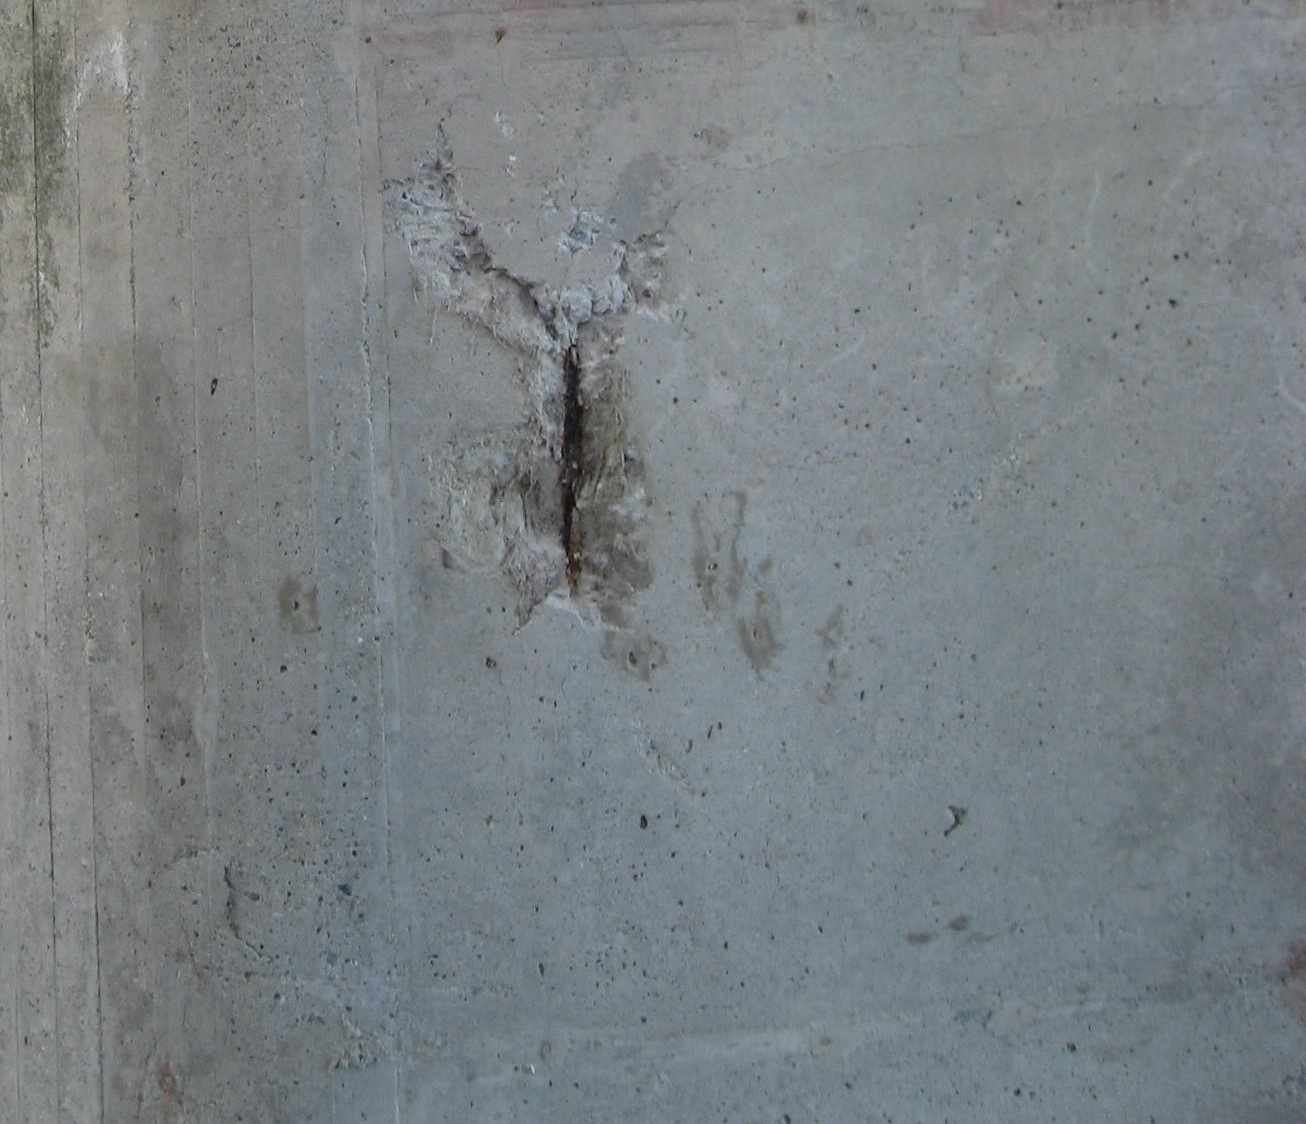Exposed reinforcement: (561, 347, 582, 553)
Spalling: (376, 122, 673, 630)
